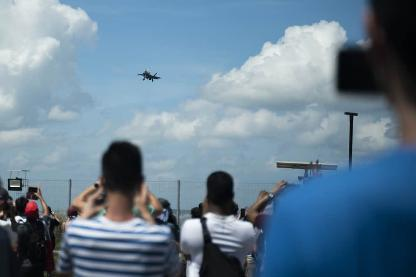F22: (138, 68, 160, 82)
